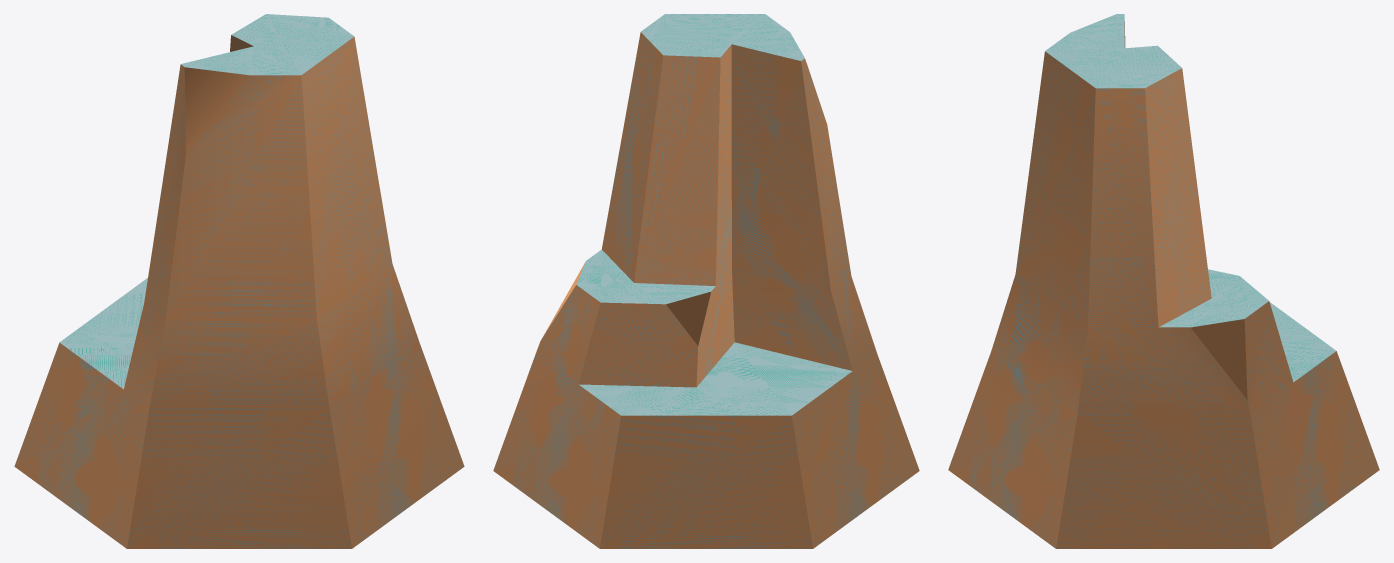
Rendered from rock_tall8.obj.
3 views of the same model, side by side, from view 1: azimuth 30°, elevation 25°; view 2: azimuth 150°, elevation 25°; view 3: azimuth 270°, elevation 25° (orthographic). The views are drawn at different scales.
Visible parts, largest first — view 1: rock_tall8; view 2: rock_tall8; view 3: rock_tall8.
Part boxes in pixels (<box>): rock_tall8: <box>14,14,464,548</box>; rock_tall8: <box>493,14,919,548</box>; rock_tall8: <box>948,14,1379,548</box>.
Bounding box in the file's own units: 5.75 × 7.11 × 6.64.
